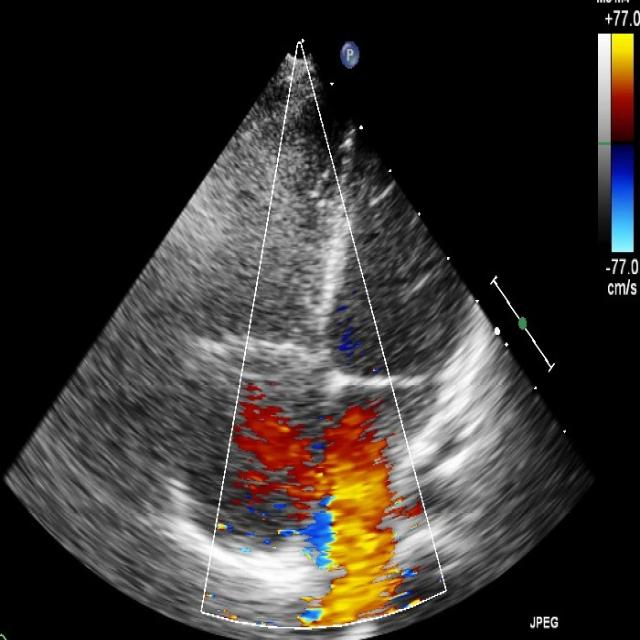ASDType2: (233, 381, 428, 627)
